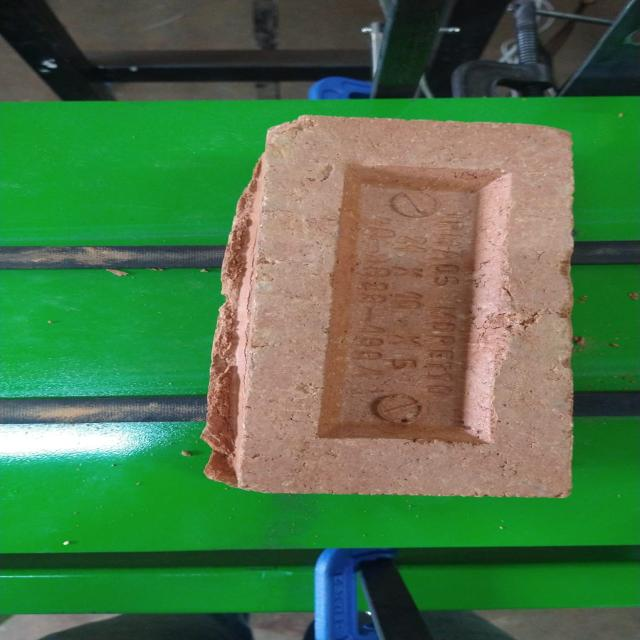bricks_ruin: (199, 114, 573, 498)
